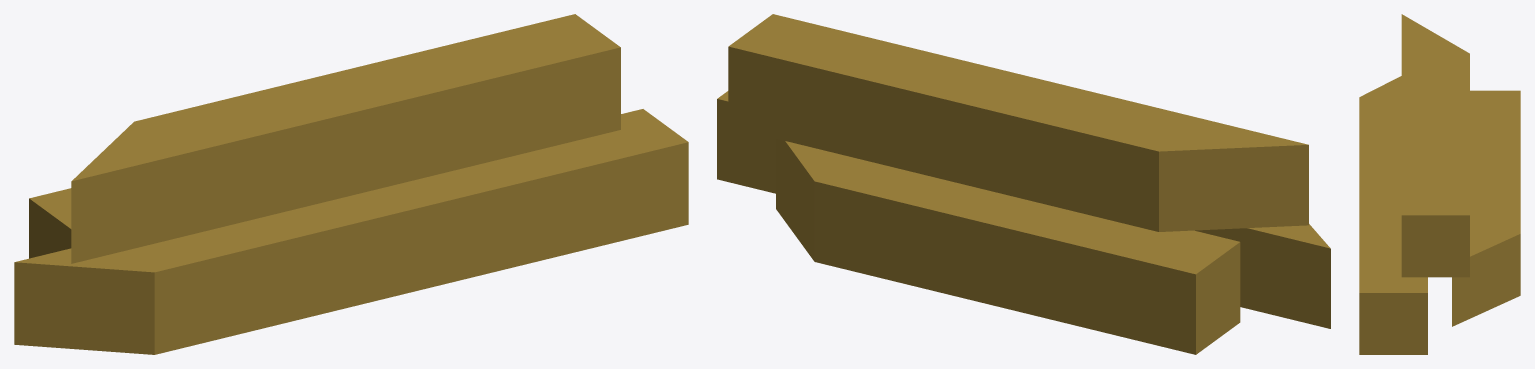
Rendered from cook chips.fbx.
3 views of the same model, side by side, from view 1: azimuth 30°, elevation 25°; view 2: azimuth 150°, elevation 25°; view 3: azimuth 270°, elevation 25° (orthographic). The views are drawn at different scales.
Parts seen in each view (by area): view 1: Cube; view 2: Cube; view 3: Cube.
Boxes of the visible parts, box(x1,y1,x2,y2) form: Cube: box(14, 14, 688, 354); Cube: box(717, 14, 1330, 354); Cube: box(1359, 14, 1520, 354).
Bounding box in the file's own units: 1055 × 267 × 312.
